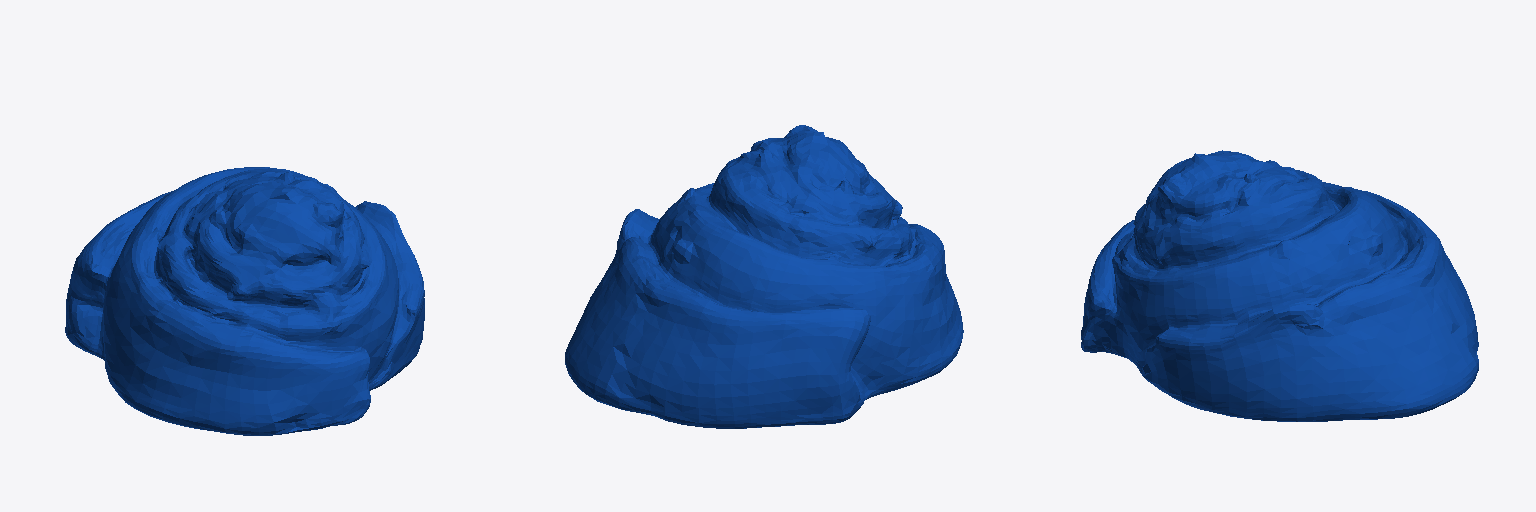
The model's file is CinRoll.obj.
3 renders of one model, left to right at view 1: azimuth 30°, elevation 25°; view 2: azimuth 150°, elevation 25°; view 3: azimuth 270°, elevation 25°, orthographic.
Parts seen in each view (by area): view 1: CL_default24_01; view 2: CL_default24_01; view 3: CL_default24_01.
Part boxes in pixels (left/top/right/bottom): CL_default24_01: left=65, top=167, right=424, bottom=435; CL_default24_01: left=565, top=125, right=963, bottom=428; CL_default24_01: left=1081, top=150, right=1478, bottom=421.
Bounding box in the file's own units: 33.65 × 20.27 × 38.01.